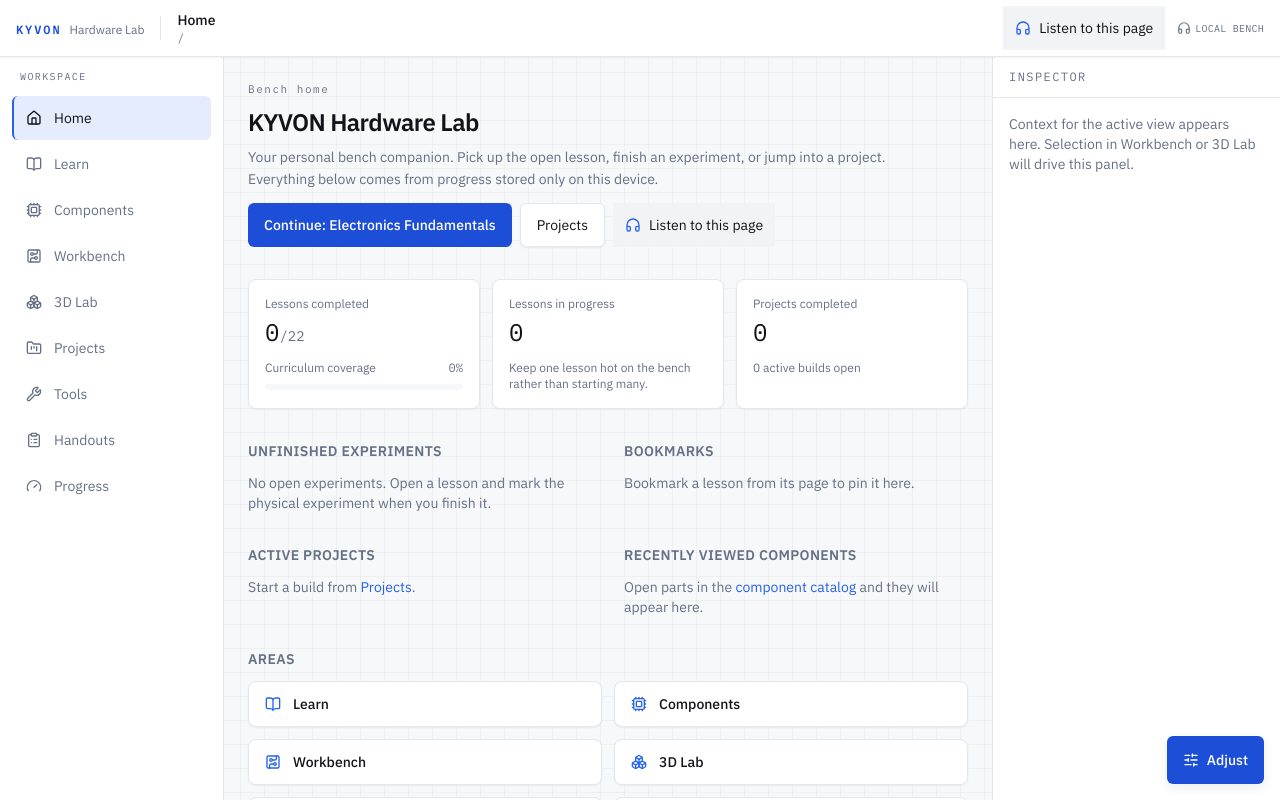
Scenario: AppRouter › navigates to Learn from the sidebar
Click the link "Learn" below "Workspace": (58, 164) [26,155,89,173]
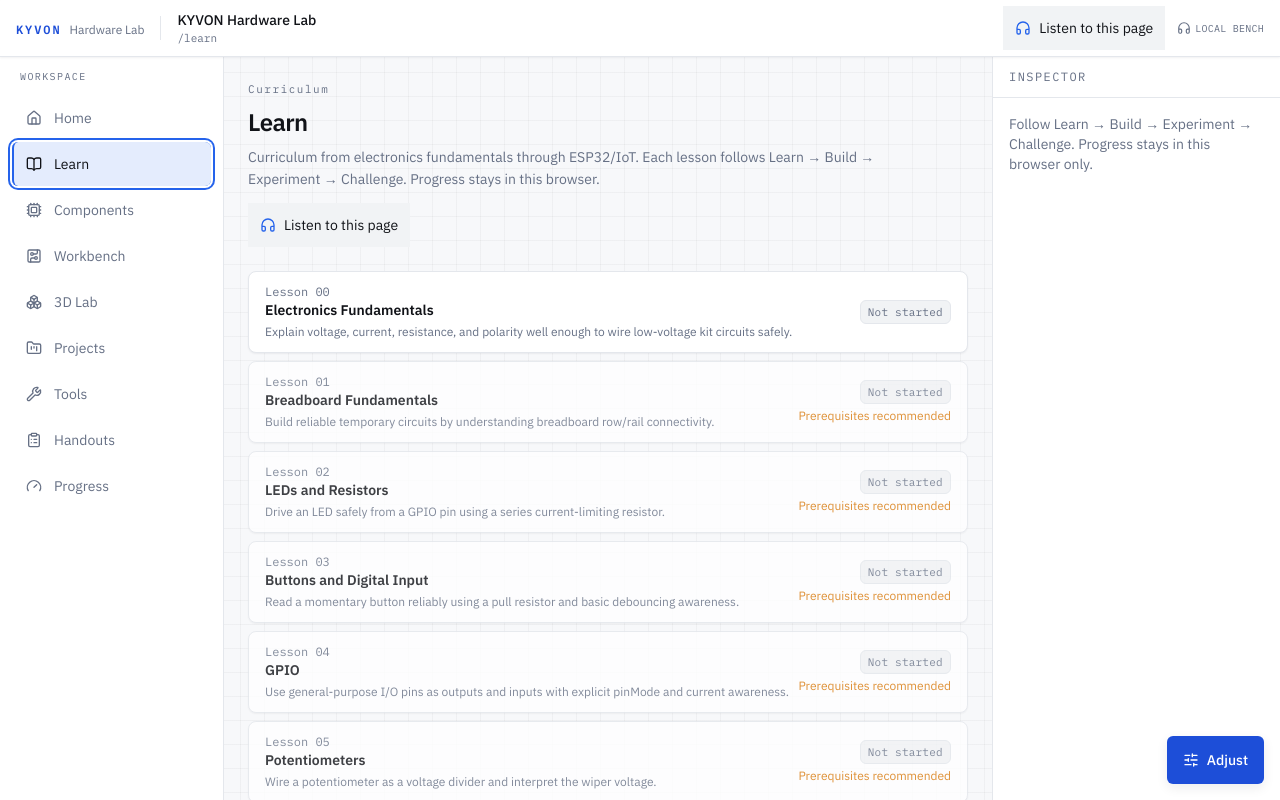
Check: the heading "Learn" is shown, box [248,106,308,138]
